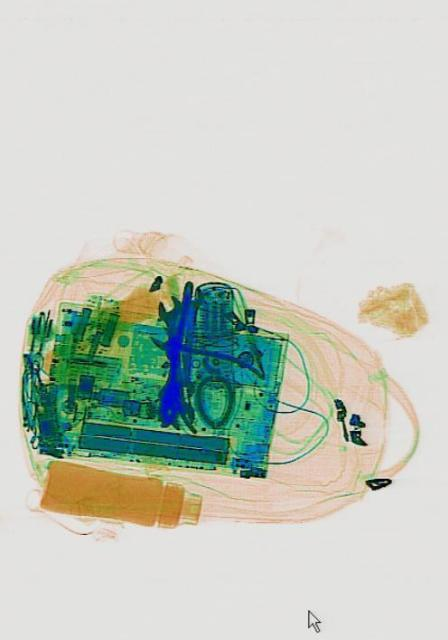Pliers: (127, 282, 261, 454)
Wrench: (155, 293, 194, 397)
